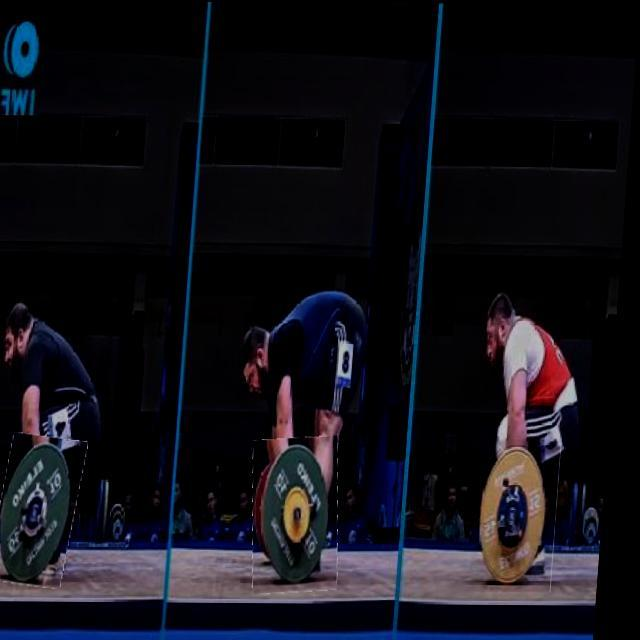barbell: (255, 437, 353, 594), (478, 438, 570, 592), (1, 435, 92, 588)
